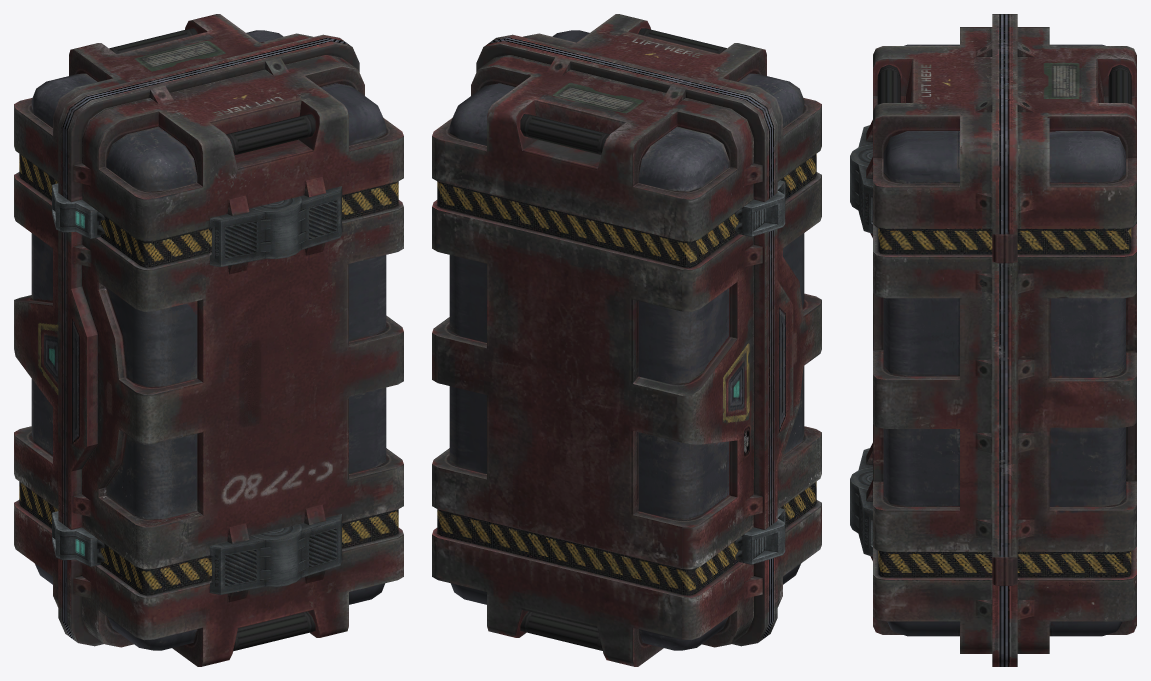
Rendered from t6_wpn_supply_drop_axis_LOD0.obj.
3 renders of one model, left to right at view 1: azimuth 30°, elevation 25°; view 2: azimuth 150°, elevation 25°; view 3: azimuth 270°, elevation 25°, orthographic.
Visible parts, largest first — view 1: mtl_t6_wpn_supply_drop_axis; view 2: mtl_t6_wpn_supply_drop_axis; view 3: mtl_t6_wpn_supply_drop_axis.
Part boxes in pixels (x1=…): mtl_t6_wpn_supply_drop_axis: x1=14, y1=14, x2=403, y2=666; mtl_t6_wpn_supply_drop_axis: x1=432, y1=14, x2=821, y2=666; mtl_t6_wpn_supply_drop_axis: x1=850, y1=14, x2=1136, y2=666.
Bounding box in the file's own units: 108 × 187 × 90.68.
